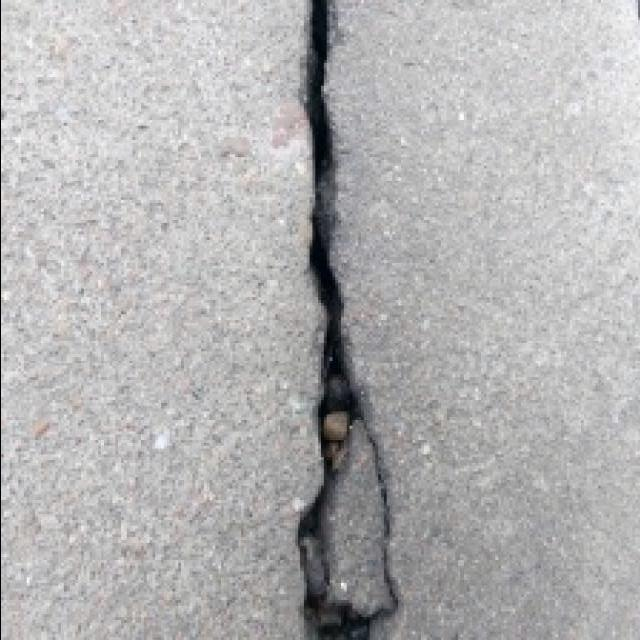SurfaceCrack: (260, 0, 448, 640)
